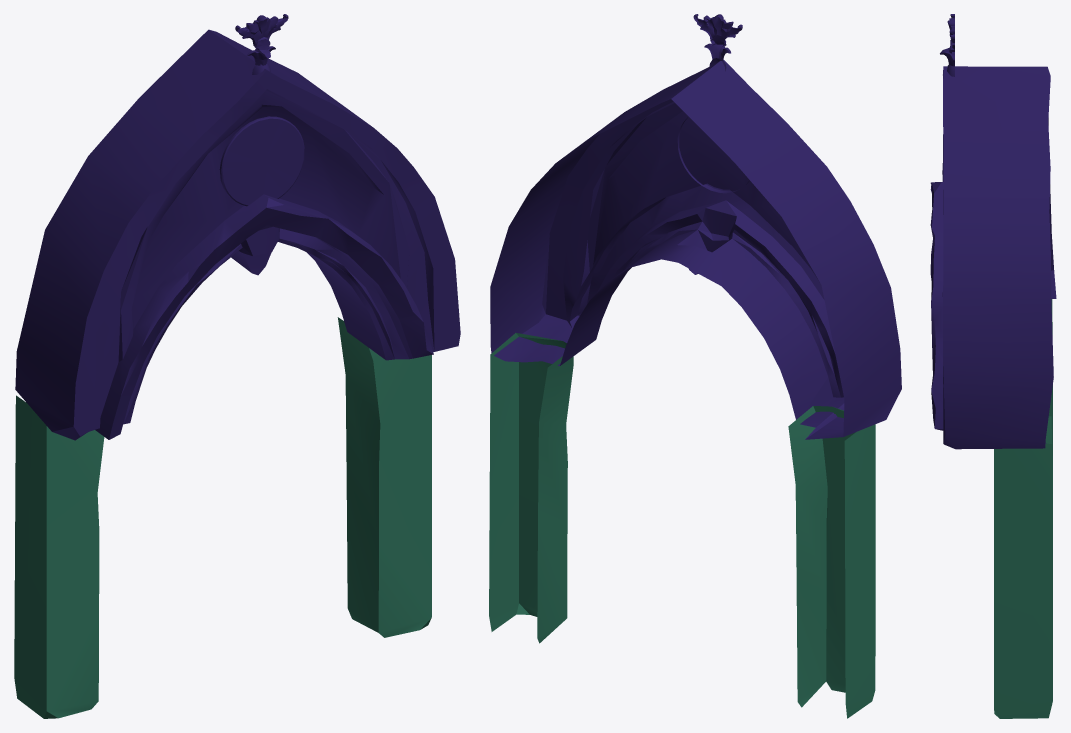
File: SM_bossdoortle.fbx
3 renders of one model, left to right at view 1: azimuth 30°, elevation 25°; view 2: azimuth 150°, elevation 25°; view 3: azimuth 270°, elevation 25°, orthographic. The views are drawn at different scales.
Parts seen in each view (by area): view 1: SM_doorcover; view 2: SM_doorcover; view 3: SM_doorcover.
Boxes of the visible parts, <box> form: SM_doorcover: <box>14,14,460,718</box>; SM_doorcover: <box>489,14,901,718</box>; SM_doorcover: <box>930,14,1056,718</box>.
Bounding box in the file's own units: 678 × 1120 × 209.
